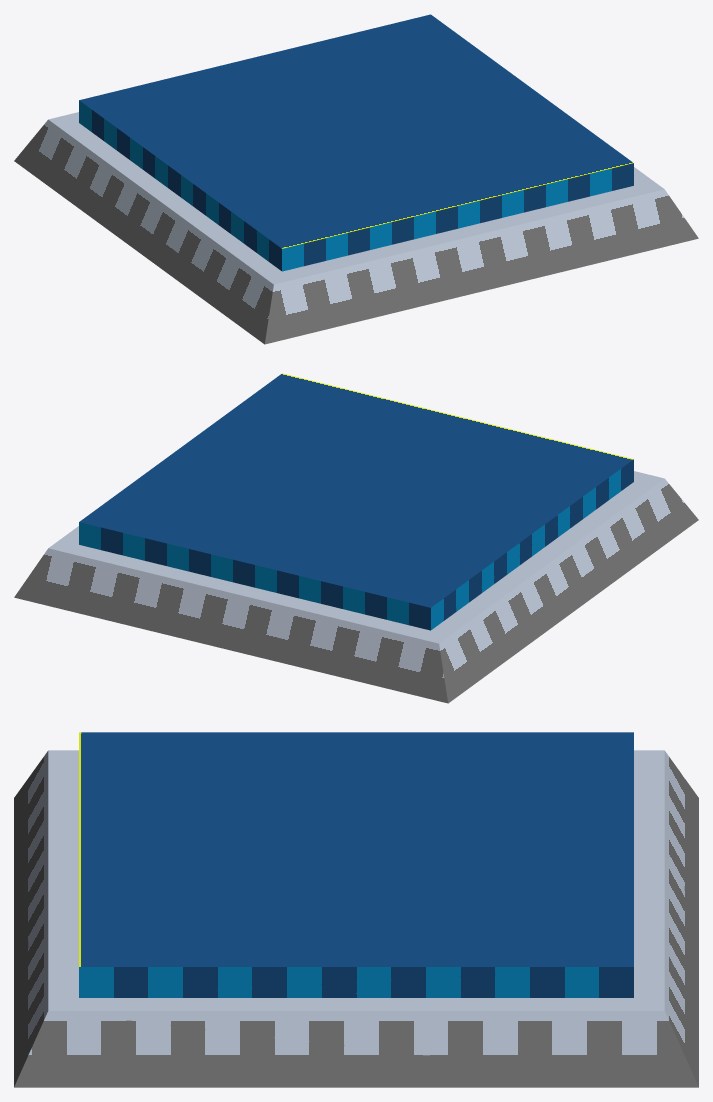
Rendered from ReverseButton.fbx.
3 renders of one model, top to bottom at view 1: azimuth 30°, elevation 25°; view 2: azimuth 150°, elevation 25°; view 3: azimuth 270°, elevation 25°, orthographic. The views are drawn at different scales.
Visible parts, largest first — view 1: Button; view 2: Button; view 3: Button.
Boxes of the visible parts, x1,y1,x2,y2 form: Button: (14,14,698,344); Button: (14,373,698,703); Button: (14,732,698,1087).
Bounding box in the file's own units: 200 × 30 × 200.
